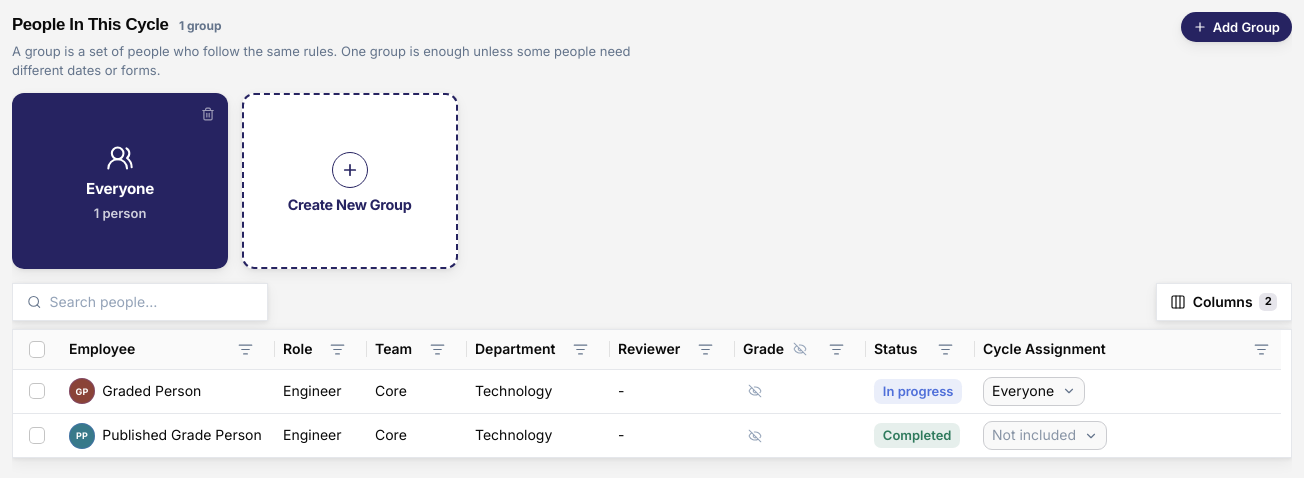
CycleGroupsSection › hides and reveals every grade together
Expected: the button named "Show Graded Person's grade" is shown, [743,379,767,403]
Expected: the button named "Show Published Grade Person's grade" is shown, [743,424,767,448]
Click the button named "Show All Grades".
click(800, 349)  # box [788,337,812,361]
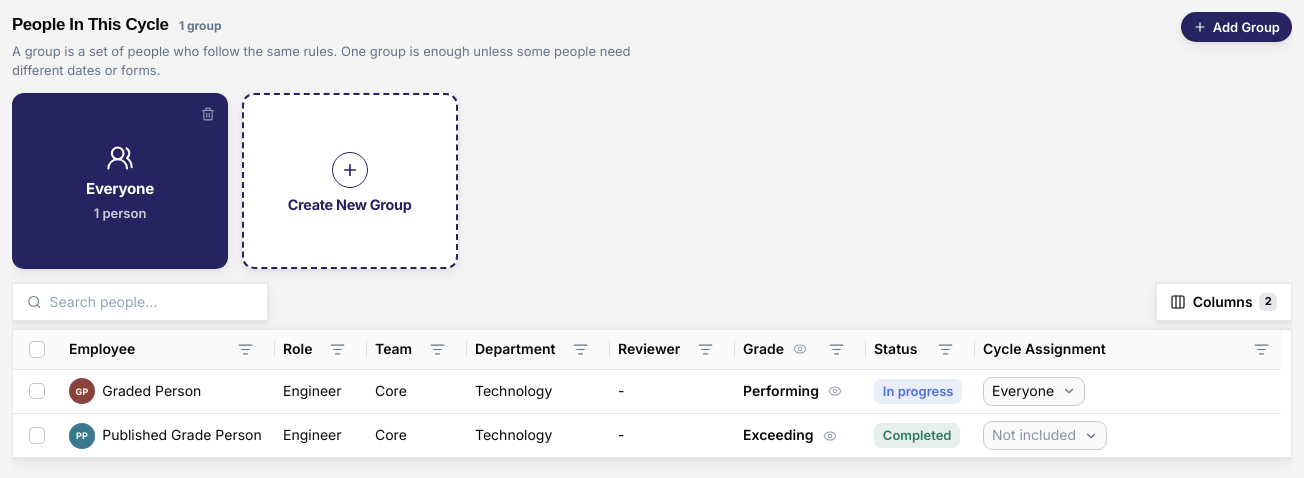
Expected: the text "Performing" is shown, [743,382,819,401]
Expected: the text "Exceeding" is shown, [743,426,814,445]
Expected: the button named "Hide Graded Person's grade" is shown, [823,379,847,403]
Click the button named "Hide All Grades".
click(800, 349)  # box [788,337,812,361]
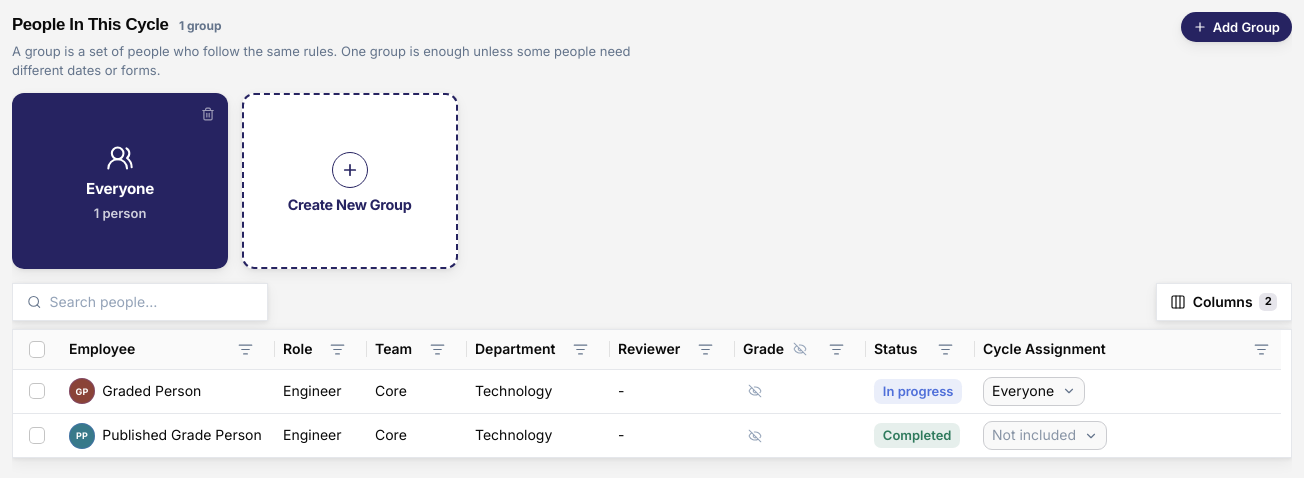
Expected: the button named "Show Graded Person's grade" is shown
Click the button named "Show Graded Person's grade".
click(755, 391)  # box [743,379,767,403]
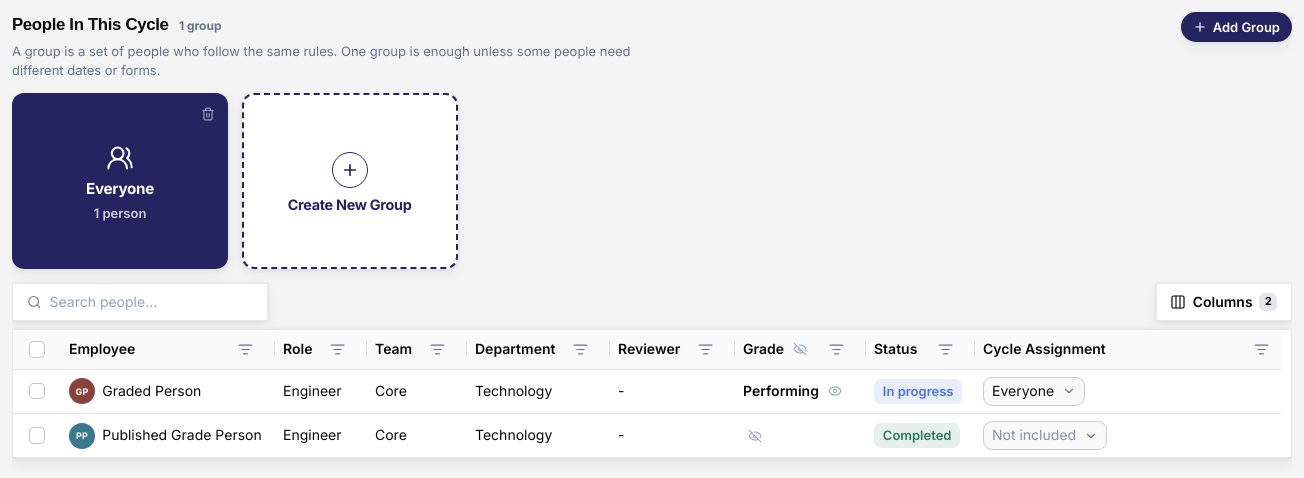
Expected: the text "Exceeding" is not shown
Expected: the text "Performing" is shown, [743,382,819,401]
